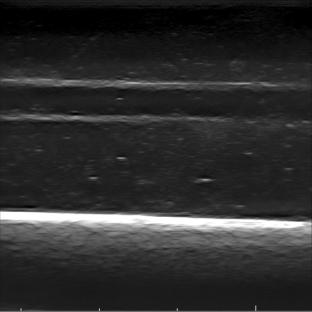vessel: (3, 79, 274, 125)
